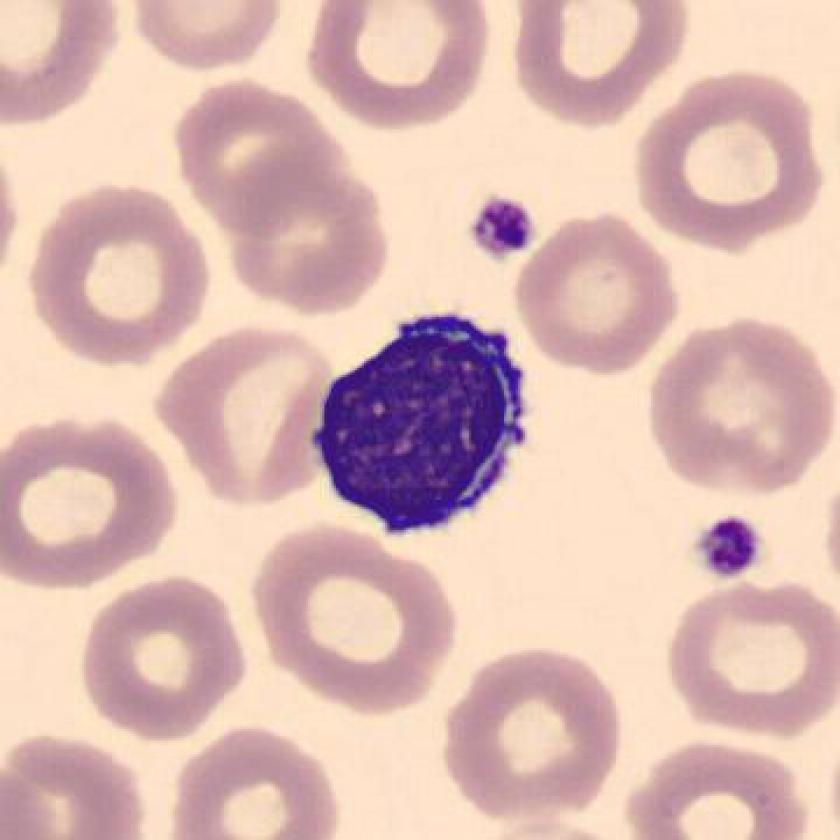lymphocyte: (302, 300, 540, 559)
platelets: (466, 192, 542, 268), (692, 512, 763, 579)
